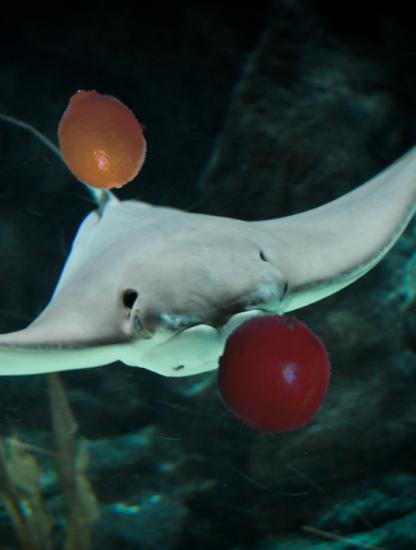Pomegranate: (208, 312, 338, 442)
Tangelo: (50, 85, 156, 191)
